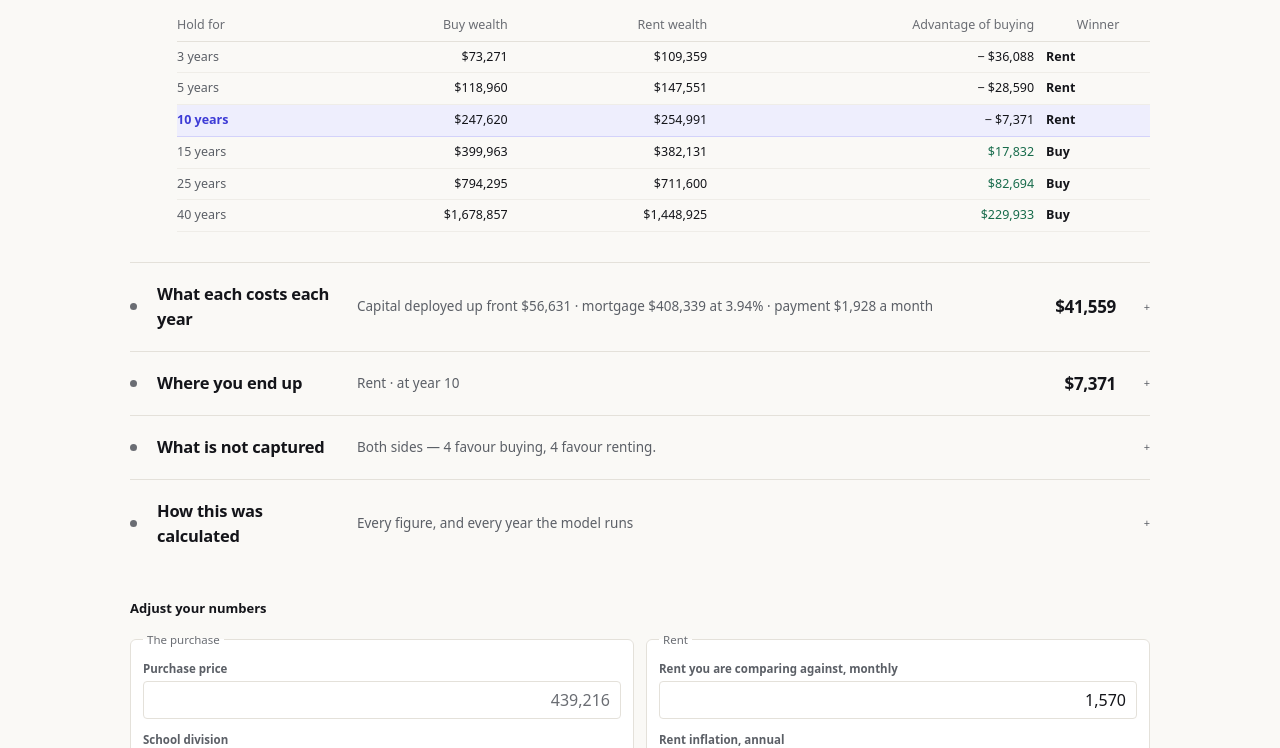
Test: Rent vs buy — the flat-market counterweight › frames the appreciation switch as a forecast, not a setting
(page scrolled)
Step 1. Click the button "Where you end up Rent · at year 10 $7,371 +" → click(230, 383), box [130,352,1150,415]
(page scrolled)
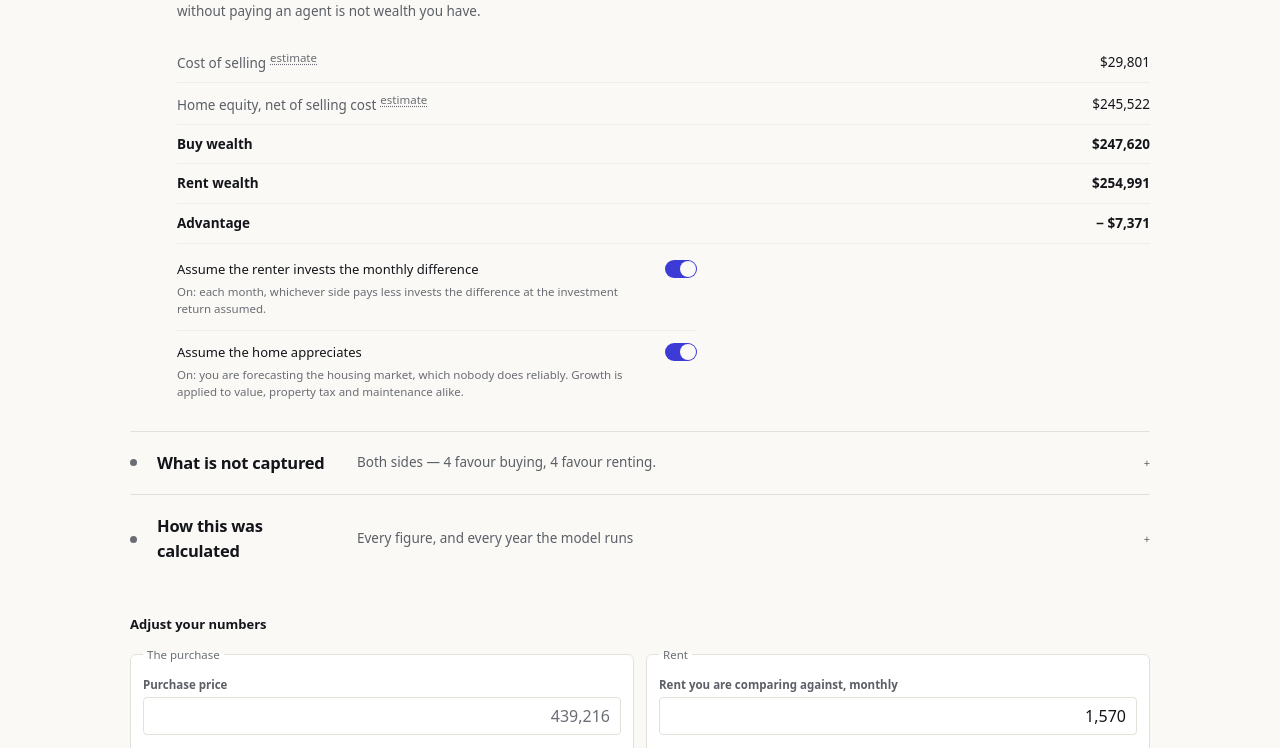
Expected: the text "forecasting the housing market" is shown, [177,367,623,399]
